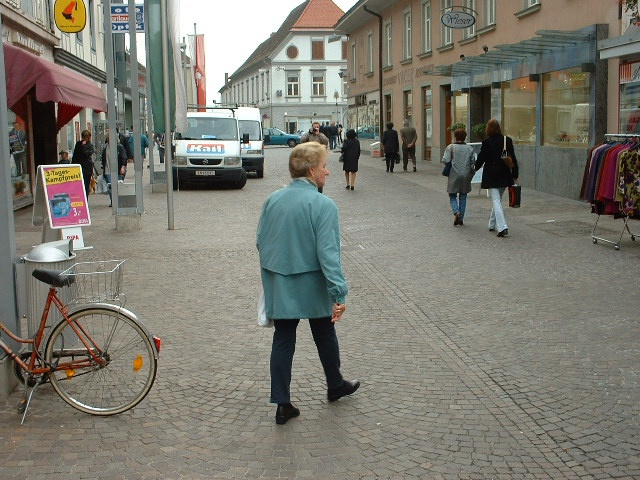person: (253, 135, 358, 420), (474, 117, 521, 237), (443, 126, 473, 227), (332, 123, 363, 189), (394, 112, 422, 173), (378, 116, 401, 176)
